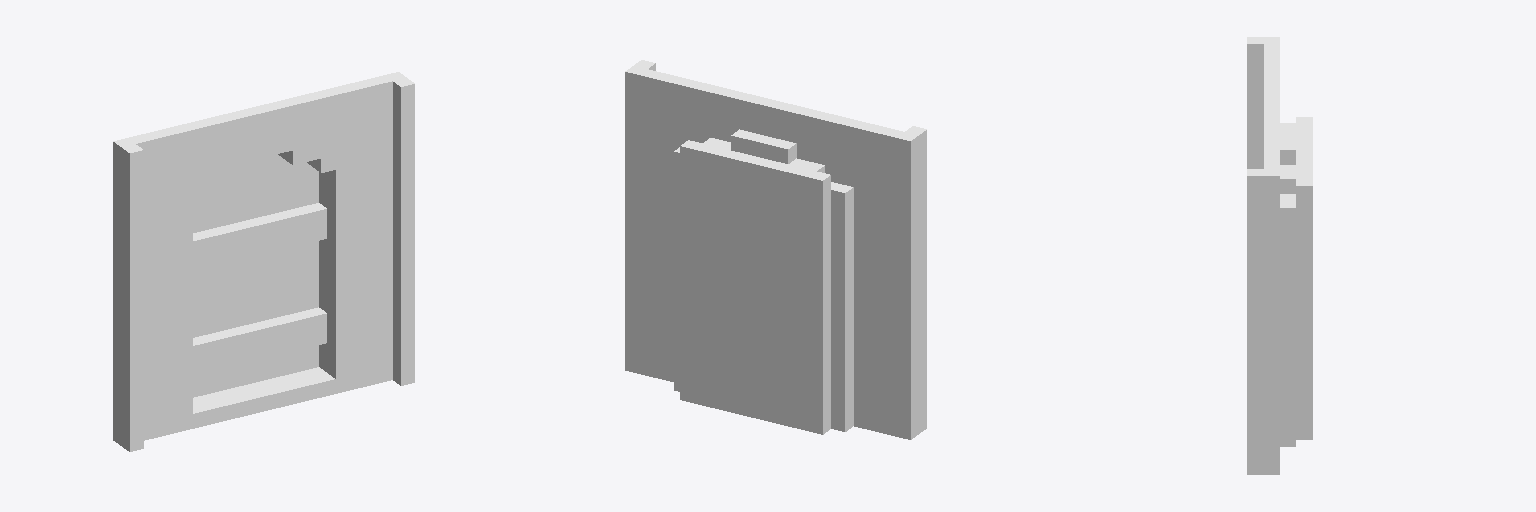
File: house-3-foundation_main_door.obj
The picture shows the model from 3 angles: view 1: azimuth 30°, elevation 25°; view 2: azimuth 150°, elevation 25°; view 3: azimuth 270°, elevation 25°; orthographic projection.
Parts seen in each view (by area): view 1: foundation_main_door; view 2: foundation_main_door; view 3: foundation_main_door.
Boxes of the visible parts, x1=… form: foundation_main_door: x1=113, y1=72, x2=414, y2=451; foundation_main_door: x1=625, y1=60, x2=926, y2=439; foundation_main_door: x1=1247, y1=37, x2=1312, y2=474.
Size of the model in its own units: 2 by 2 by 0.4.